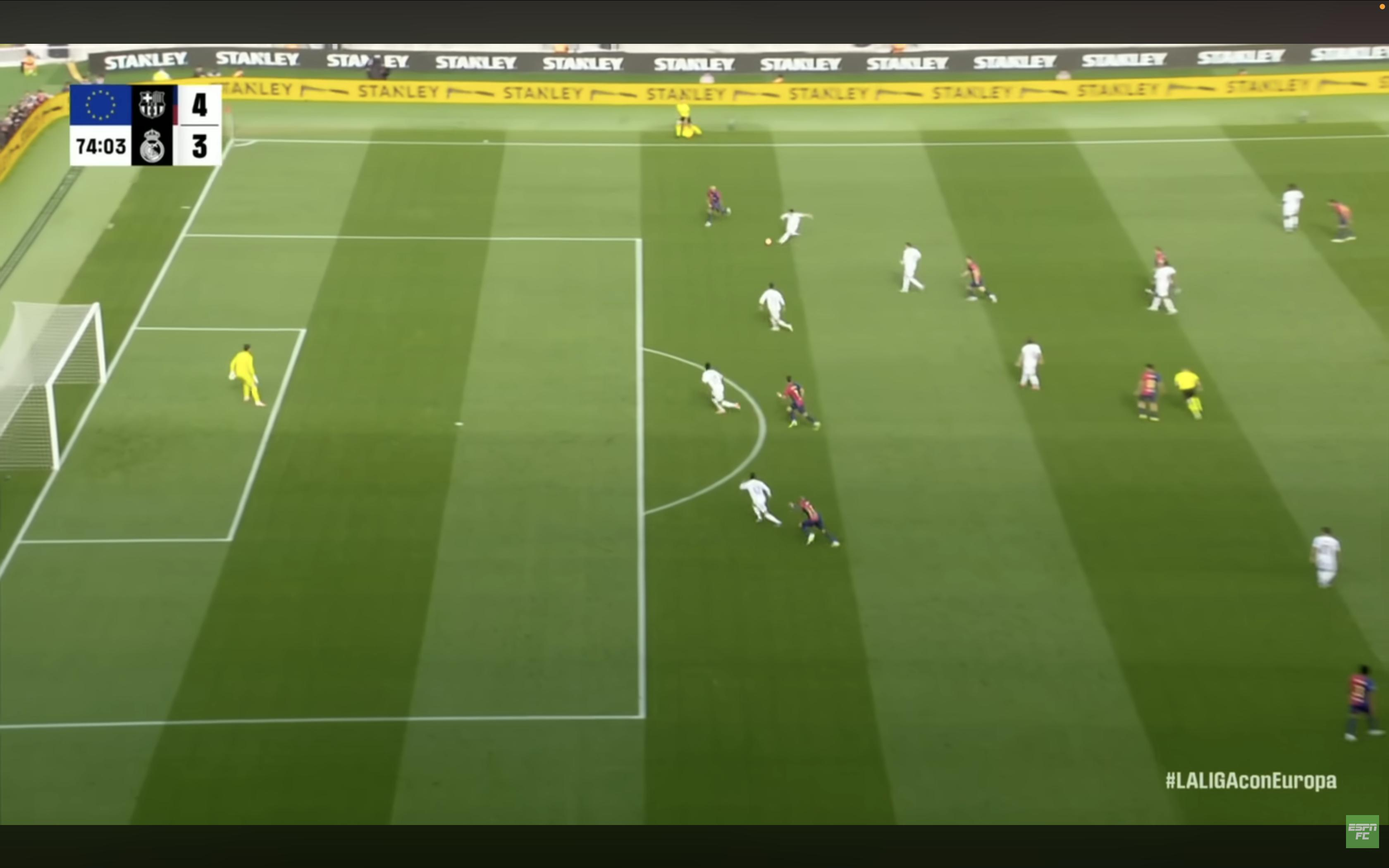ball: (765, 238, 772, 246)
goalkeeper: (229, 344, 265, 407)
player: (1345, 665, 1383, 741), (790, 497, 840, 547), (739, 473, 782, 526), (780, 376, 821, 430), (702, 362, 740, 414), (1310, 527, 1341, 588), (1148, 250, 1177, 314), (759, 283, 793, 331), (961, 257, 996, 302), (1136, 364, 1163, 421), (1017, 339, 1043, 390), (778, 209, 813, 244), (900, 243, 924, 293), (1329, 200, 1355, 242), (1282, 184, 1304, 232), (705, 186, 730, 227), (1155, 247, 1168, 269)
referee: (1174, 368, 1203, 420), (676, 104, 702, 138)
